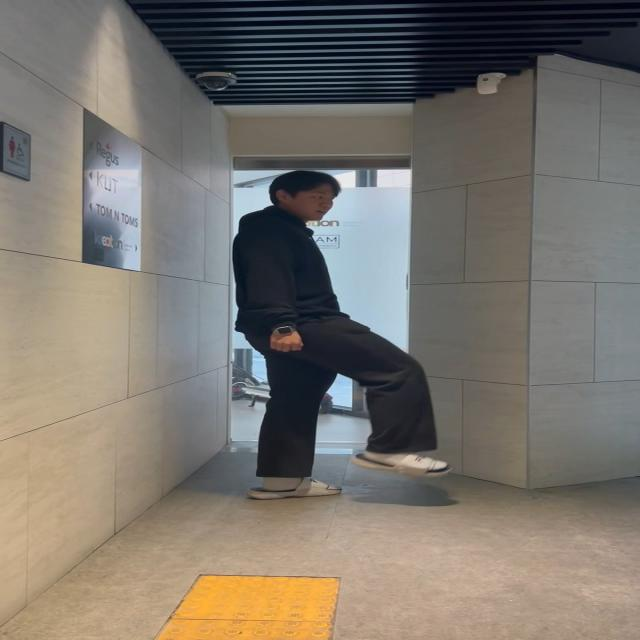leg: (298, 309, 467, 480)
